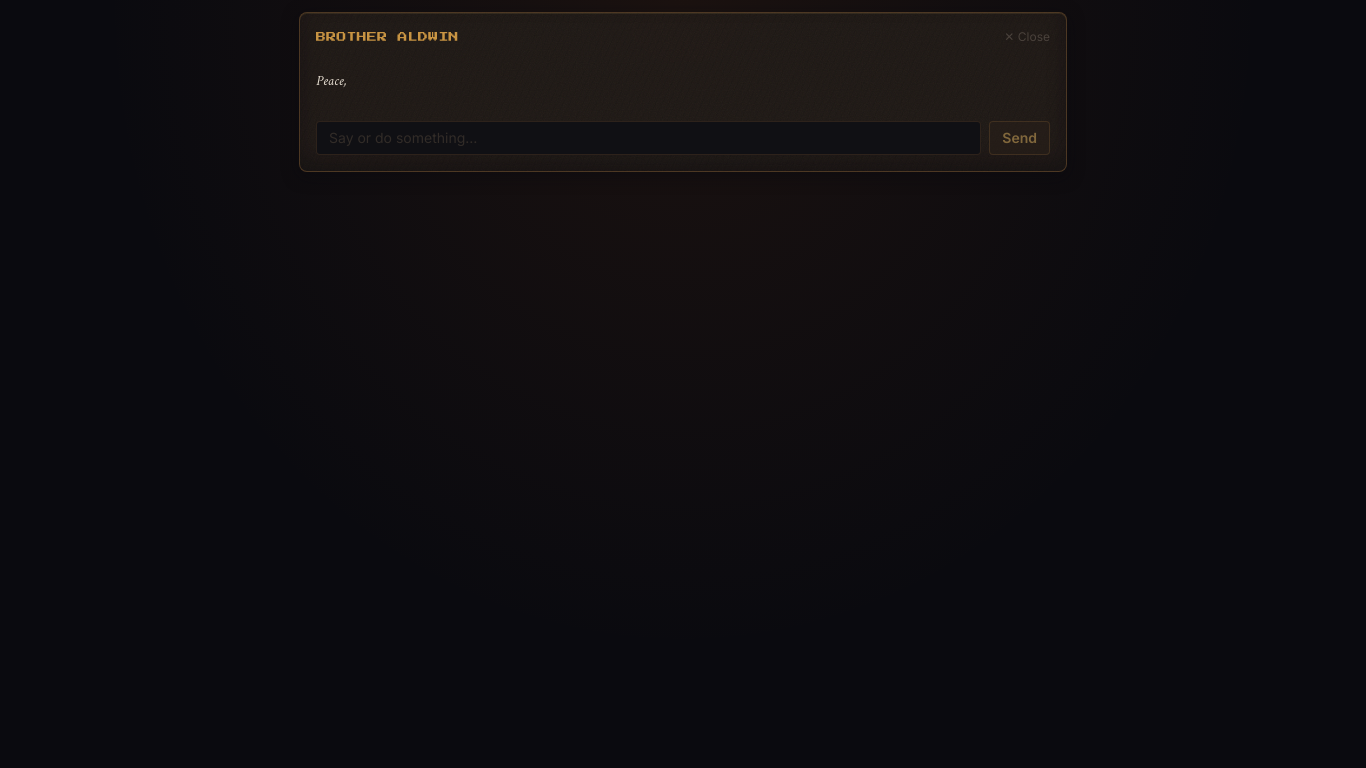
Test: StoryHud — dialogue mode › typewrites completed text and can be skipped to full by clicking
Click the button with test id "story-hud-text" at [331, 81], box [316, 53, 1050, 109]
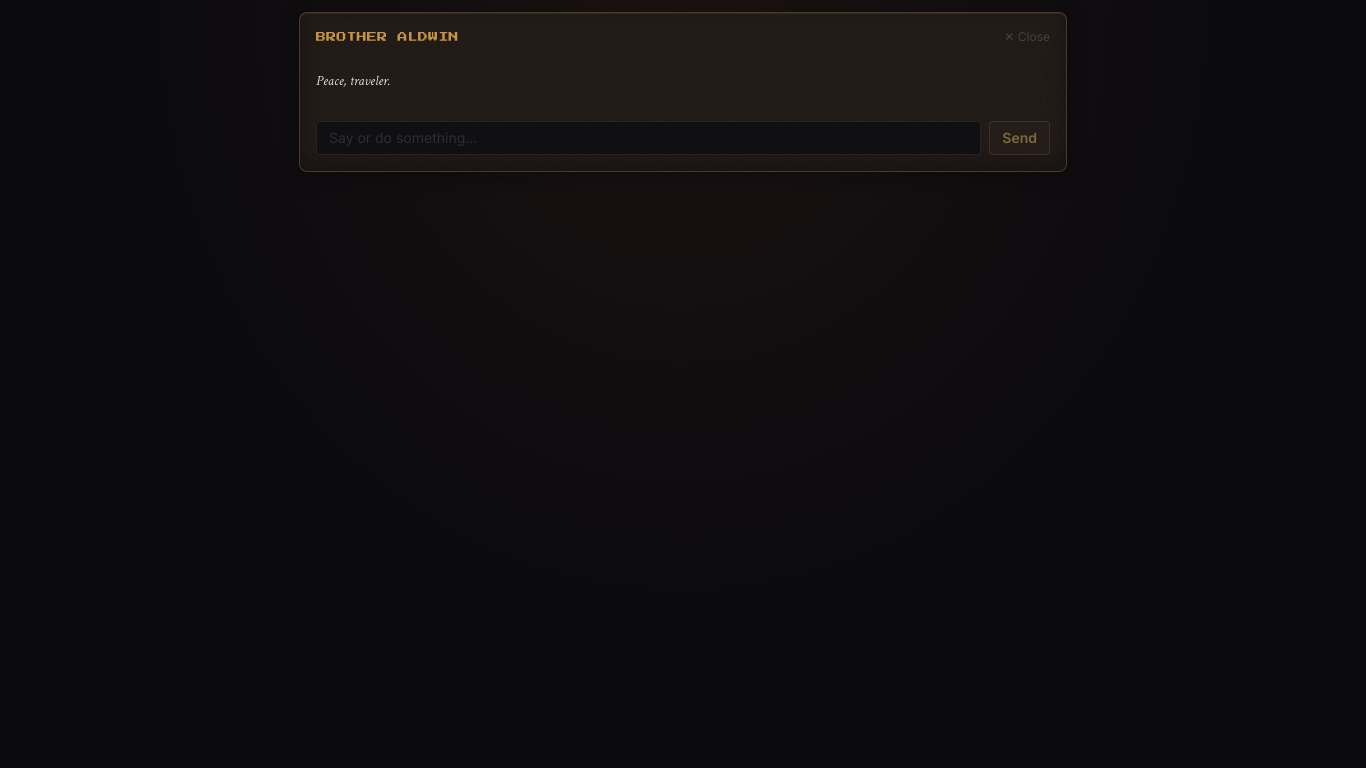
Result: the button with test id "story-hud-text" reads "Peace, traveler." at [316, 53, 1050, 109]
